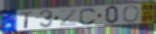0: (105, 5, 121, 25)
3: (39, 10, 54, 29)
C: (79, 7, 98, 26)
O: (122, 5, 141, 24)
T: (19, 11, 35, 29)
Z: (59, 8, 78, 28)
